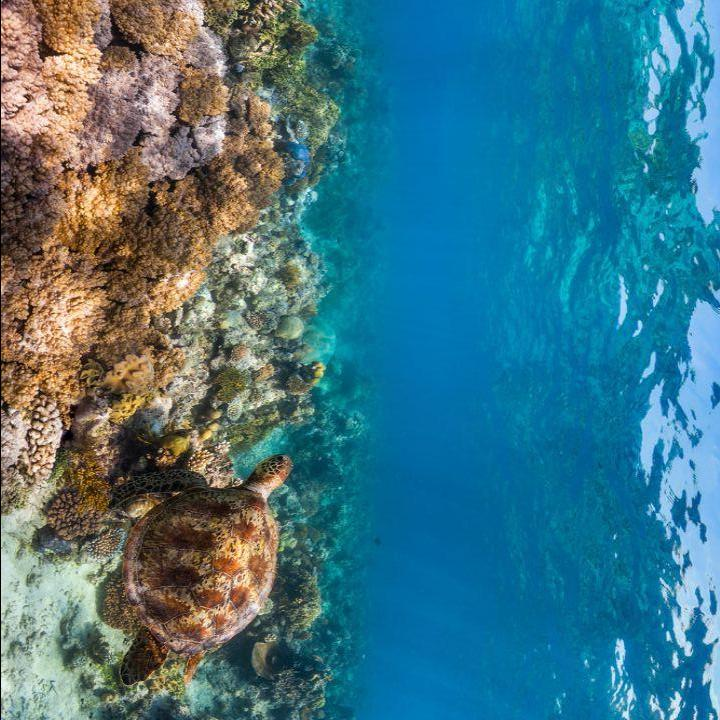Healthy Coral: (15, 24, 364, 460), (232, 517, 361, 719)
